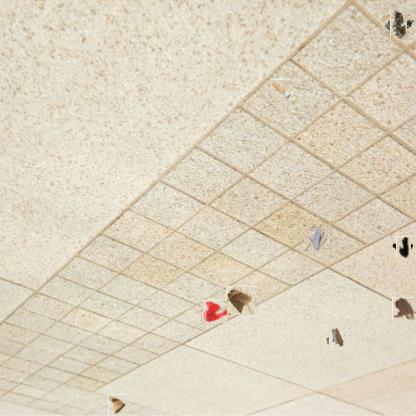dirty: (226, 287, 255, 315), (305, 224, 331, 250), (387, 12, 411, 37), (270, 79, 290, 100), (108, 394, 127, 415), (394, 238, 413, 257), (327, 330, 346, 348)
liquid: (202, 300, 228, 323), (392, 297, 415, 320)
